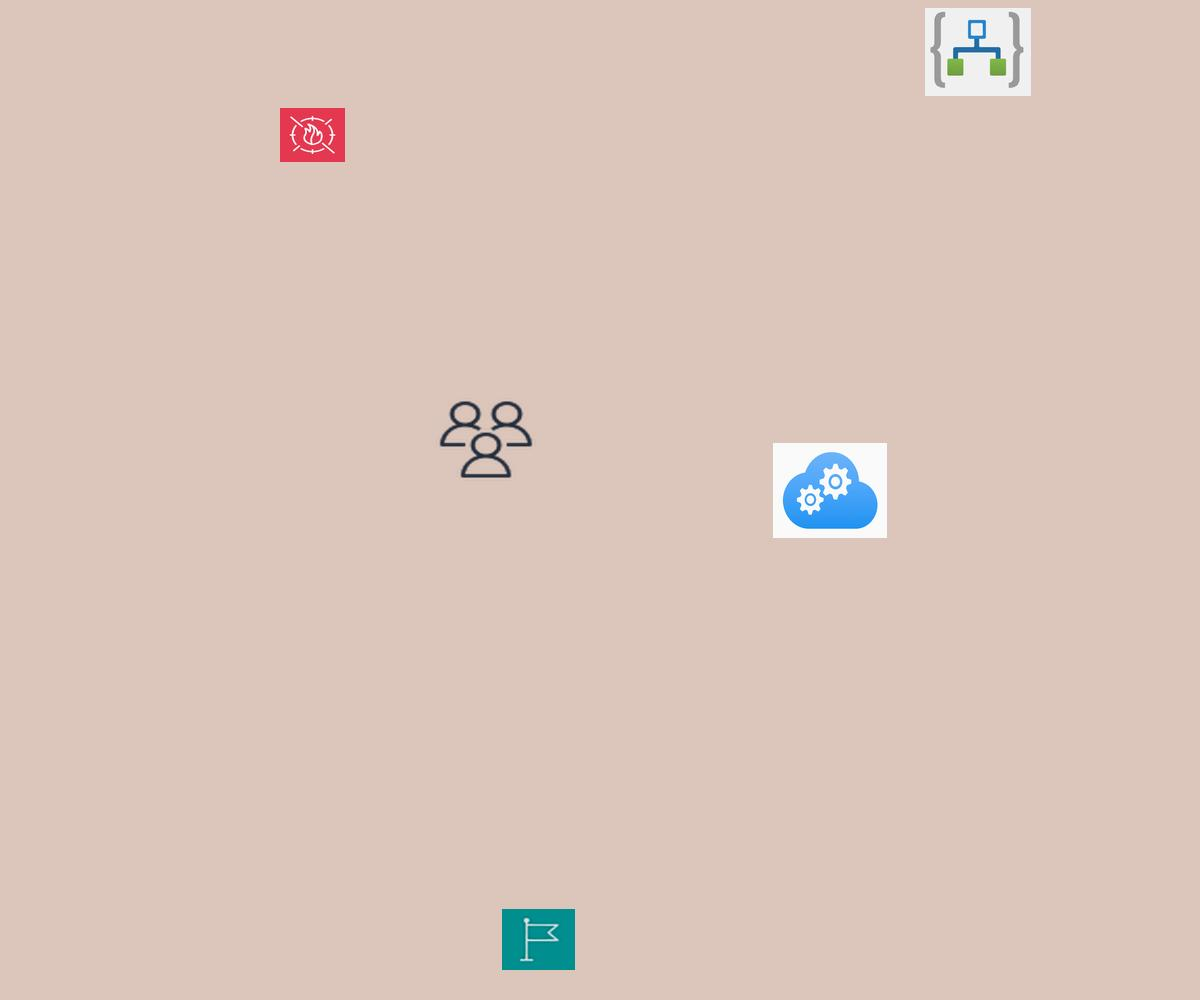AWS-Region: (502, 909, 575, 970)
AWS-Res_Users: (436, 398, 536, 481)
AWS-WAF: (280, 108, 345, 162)
Azure_cloud_services: (773, 443, 887, 538)
Azure_integration-204-Logic-Apps: (925, 8, 1031, 96)
